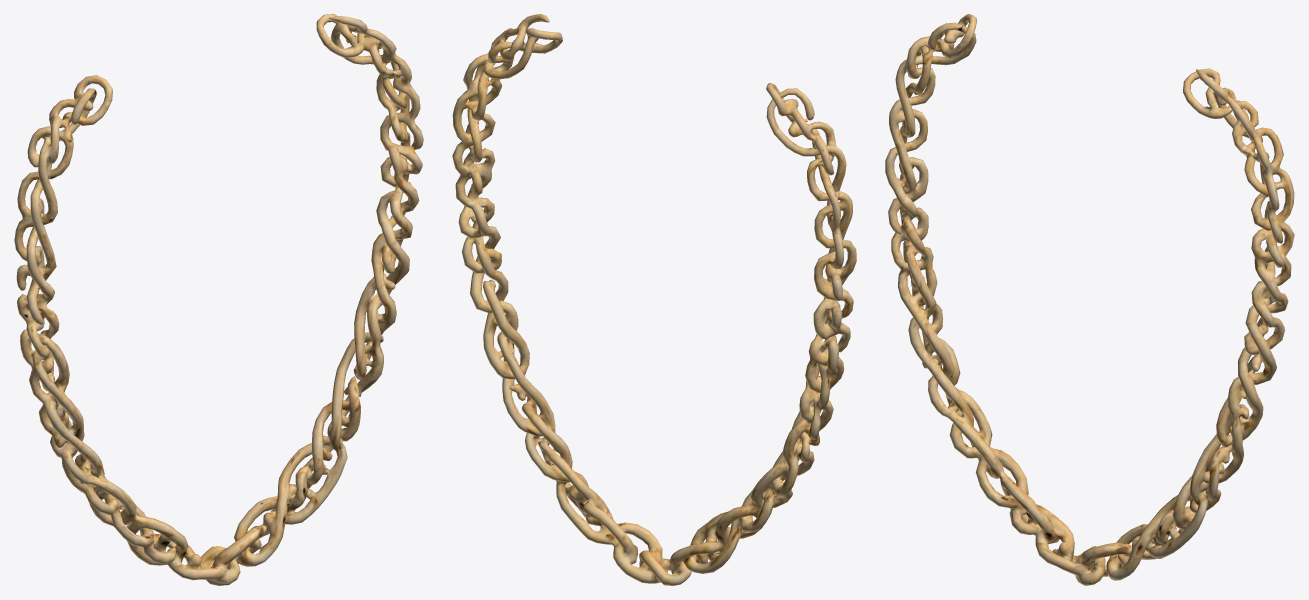
Rendered from chaine_or.glb.
3 renders of one model, left to right at view 1: azimuth 30°, elevation 25°; view 2: azimuth 150°, elevation 25°; view 3: azimuth 330°, elevation 25°, orthographic.
Bounding box in the file's own units: 1.52 × 1.99 × 0.1242.
1 material, 1 textured.
